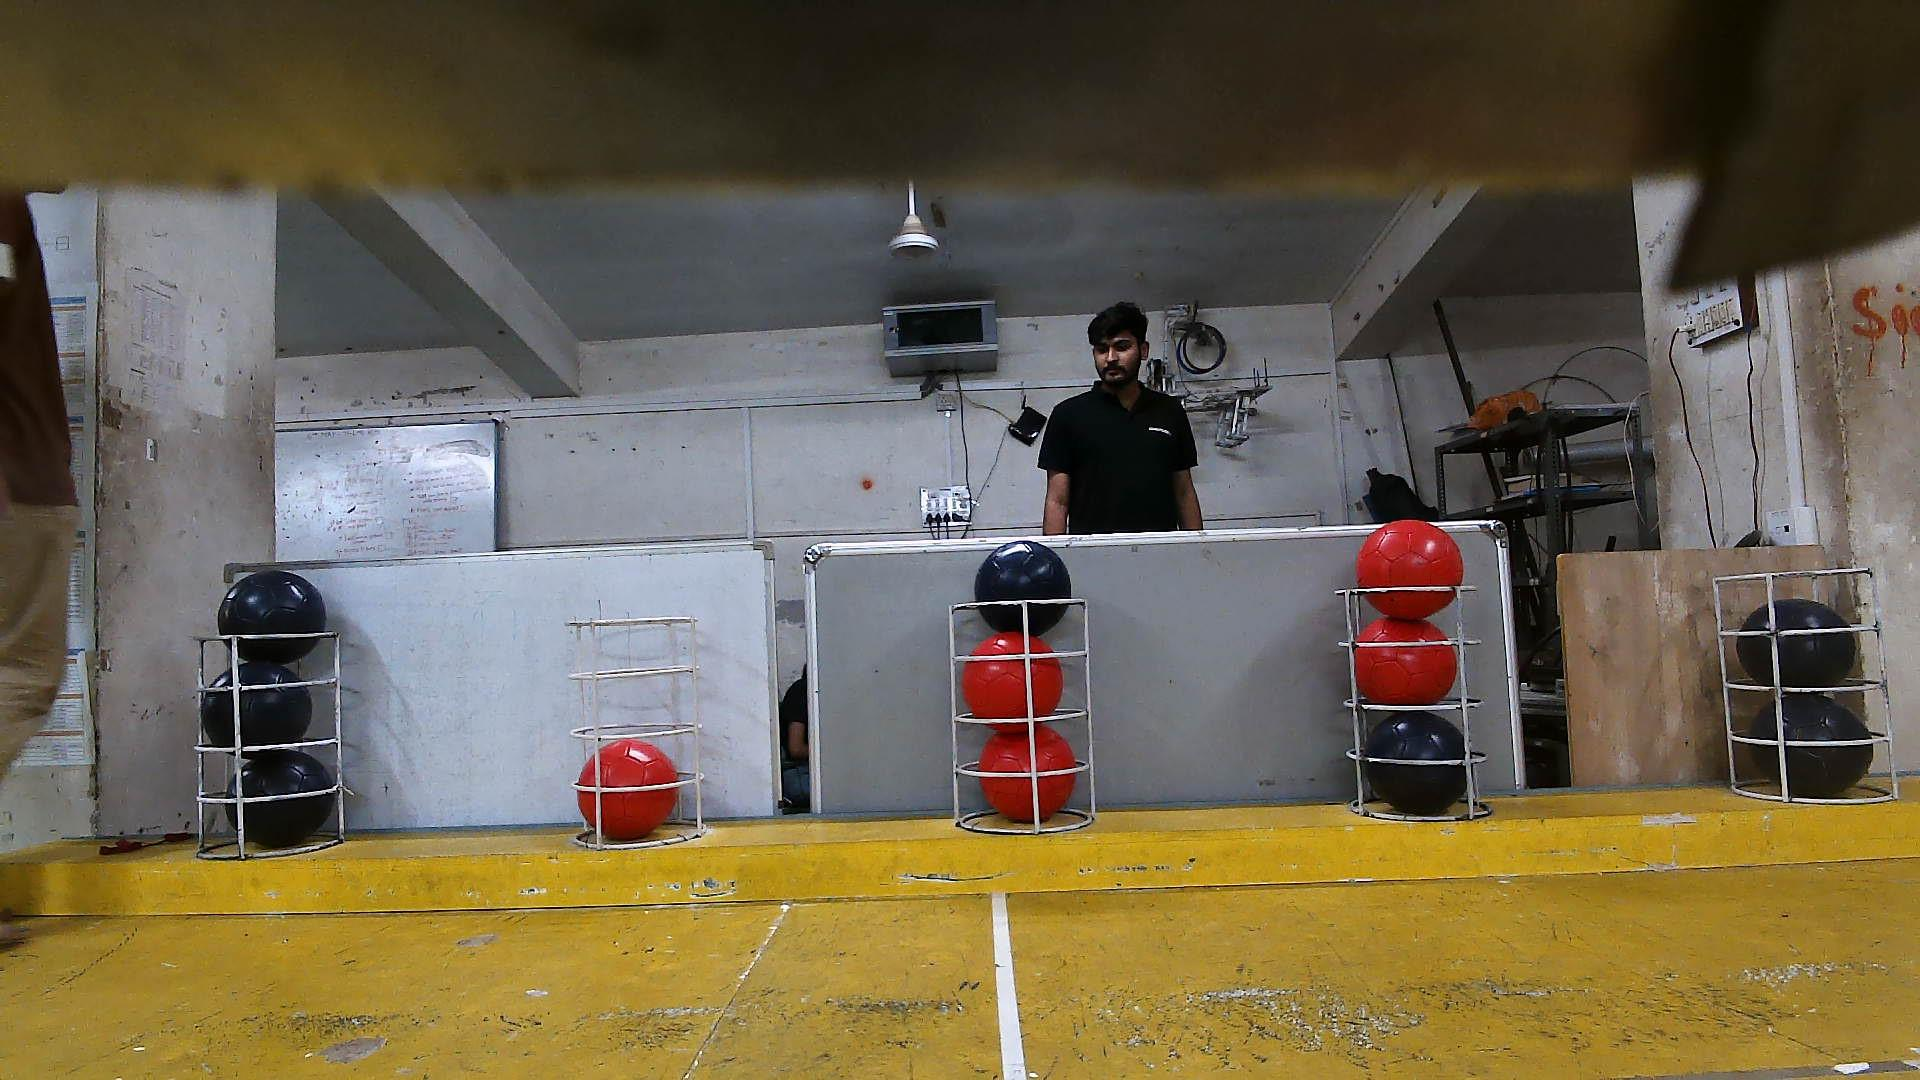dhoka: (1745, 692, 1869, 796), (222, 746, 339, 848), (1737, 600, 1857, 690), (215, 572, 327, 666), (1367, 709, 1468, 814), (199, 661, 311, 750), (975, 541, 1072, 636)
laale: (960, 630, 1065, 732), (1357, 521, 1462, 618), (580, 740, 675, 841), (1354, 616, 1456, 709), (978, 728, 1076, 822)
